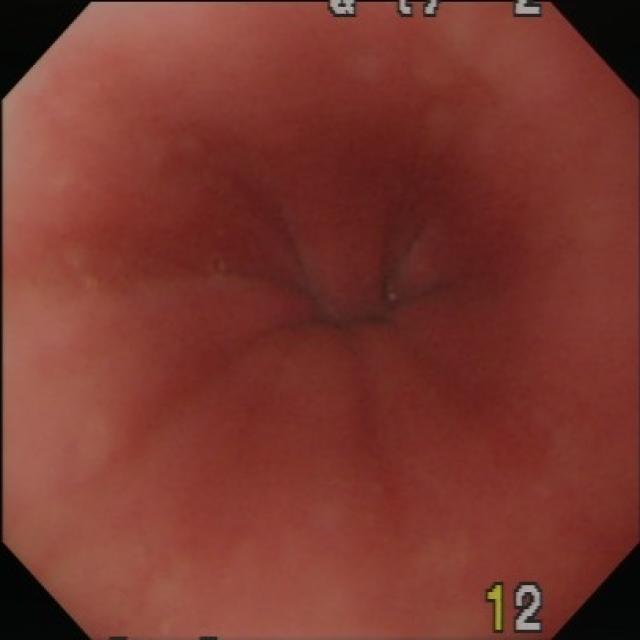I: (217, 164, 489, 429)
S: (485, 581, 547, 636), (325, 3, 545, 18)
